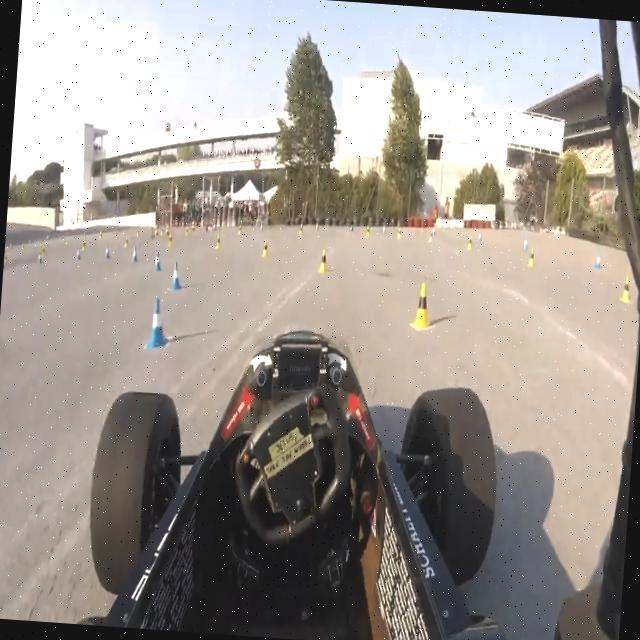blue_cone: (146, 298, 169, 351), (168, 262, 182, 292), (520, 233, 529, 256), (594, 250, 602, 272), (130, 245, 138, 263), (154, 250, 161, 270), (75, 248, 80, 262), (104, 246, 110, 256)
yellow_cone: (413, 282, 431, 331), (619, 270, 632, 304), (525, 243, 537, 272), (319, 248, 328, 274), (166, 230, 173, 250), (261, 238, 268, 257), (214, 233, 222, 249), (80, 234, 87, 250), (123, 234, 129, 250), (467, 232, 472, 248)
